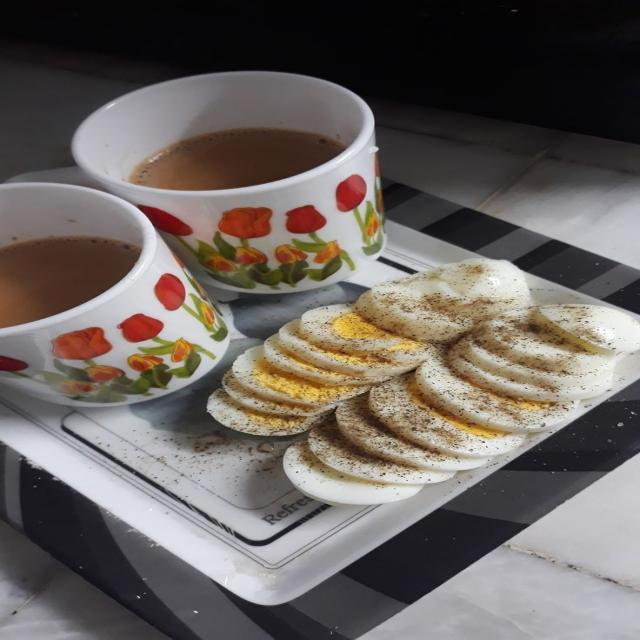eggs: (215, 284, 580, 476)
